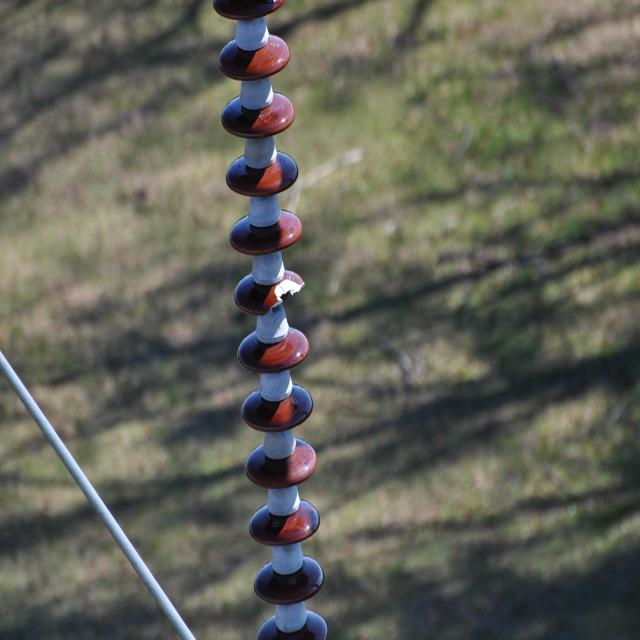broken: (263, 274, 306, 320)
insulator: (212, 0, 329, 640)
